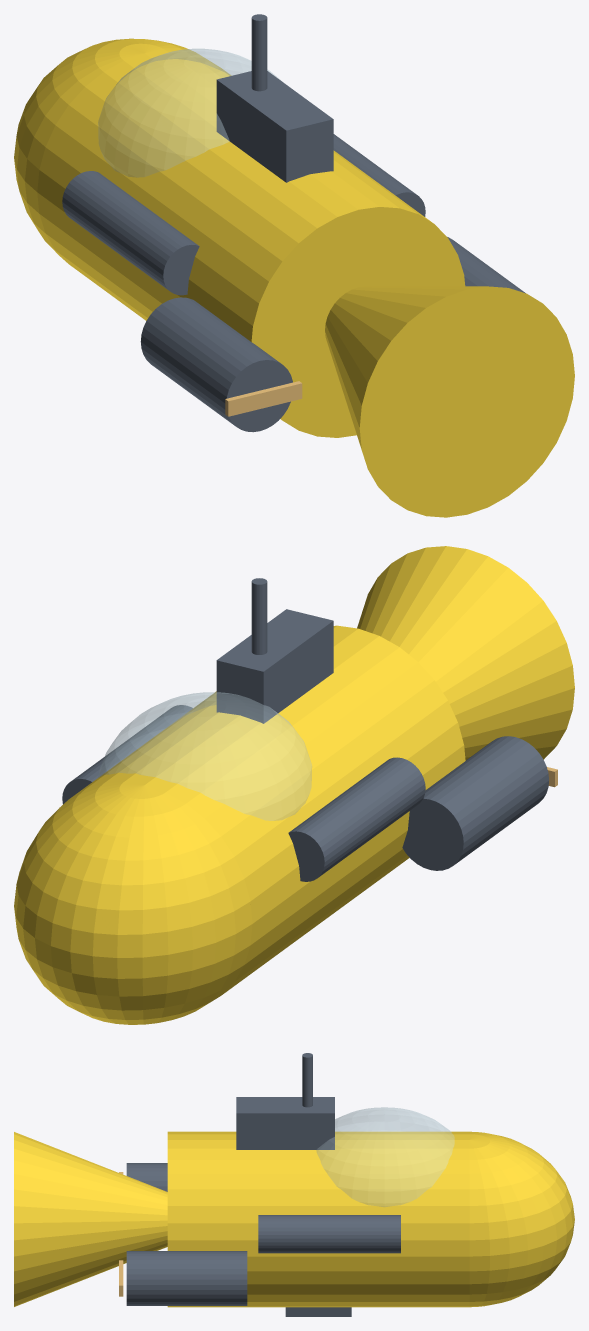
File: submarine.glb
3 views of the same model, one above another, from view 1: azimuth 30°, elevation 25°; view 2: azimuth 150°, elevation 25°; view 3: azimuth 270°, elevation 25° (orthographic). The views are drawn at different scales.
Parts seen in each view (by area): view 1: Hull_Main, Hull_Rear, Cockpit_Glass, Thruster_Pod_Left, Conning_Tower, Torpedo_Tube_Left, Hull_Nose, Torpedo_Tube_Right, Propeller_Left, Thruster_Pod_Right, Periscope; view 2: Hull_Main, Hull_Nose, Hull_Rear, Cockpit_Glass, Thruster_Pod_Left, Conning_Tower, Torpedo_Tube_Left, Torpedo_Tube_Right, Periscope; view 3: Hull_Main, Hull_Rear, Hull_Nose, Cockpit_Glass, Thruster_Pod_Right, Torpedo_Tube_Right, Conning_Tower, Thruster_Pod_Left, Food_Hatch, Periscope.
Boxes of the visible parts, x1,y1,x2,y2 form: Hull_Main: (37, 50, 465, 437); Hull_Rear: (325, 286, 574, 517); Cockpit_Glass: (98, 48, 281, 177); Thruster_Pod_Left: (140, 297, 292, 432); Conning_Tower: (216, 71, 333, 182); Torpedo_Tube_Left: (62, 171, 199, 295); Hull_Nose: (14, 38, 203, 262); Torpedo_Tube_Right: (333, 134, 425, 216); Propeller_Left: (225, 381, 302, 416); Thruster_Pod_Right: (447, 237, 525, 293); Periscope: (251, 14, 267, 91); Hull_Main: (70, 625, 465, 995); Hull_Nose: (14, 782, 252, 1024); Hull_Rear: (357, 546, 574, 760); Cockpit_Glass: (98, 692, 311, 820); Thruster_Pod_Left: (402, 736, 548, 870); Conning_Tower: (216, 609, 333, 723); Torpedo_Tube_Left: (288, 757, 425, 881); Torpedo_Tube_Right: (62, 705, 192, 804); Periscope: (251, 578, 267, 654); Hull_Main: (167, 1131, 469, 1307); Hull_Rear: (14, 1132, 167, 1306); Hull_Nose: (469, 1131, 574, 1307); Cockpit_Glass: (316, 1107, 454, 1206); Thruster_Pod_Right: (126, 1251, 247, 1305); Torpedo_Tube_Right: (258, 1215, 400, 1253); Conning_Tower: (236, 1097, 334, 1149); Thruster_Pod_Left: (126, 1163, 167, 1191); Food_Hatch: (285, 1307, 351, 1316); Periscope: (302, 1053, 312, 1107).
Bounding box in the file's own units: 4.9 × 5.05 × 10.22.
